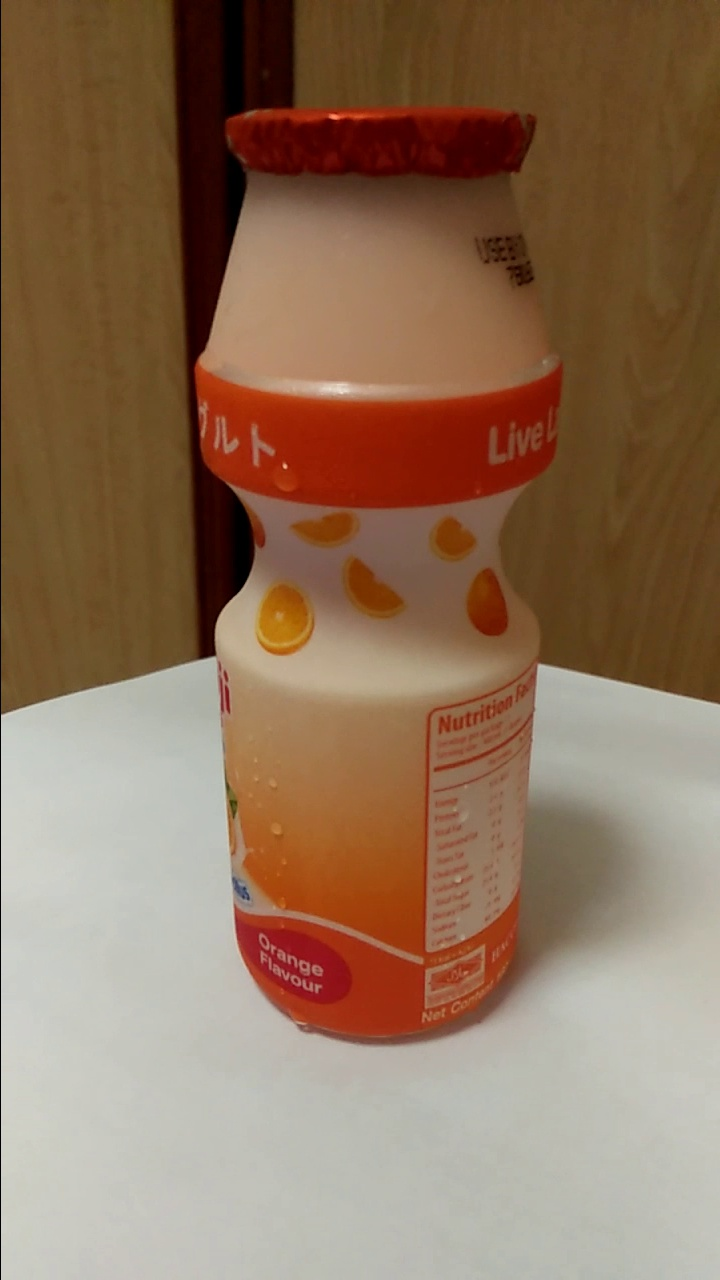milk: (221, 115, 533, 1041)
